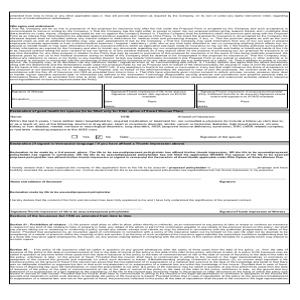table: (10, 81, 288, 108)
text: (10, 213, 290, 281), (10, 13, 289, 81), (11, 142, 289, 206), (10, 110, 285, 140)
